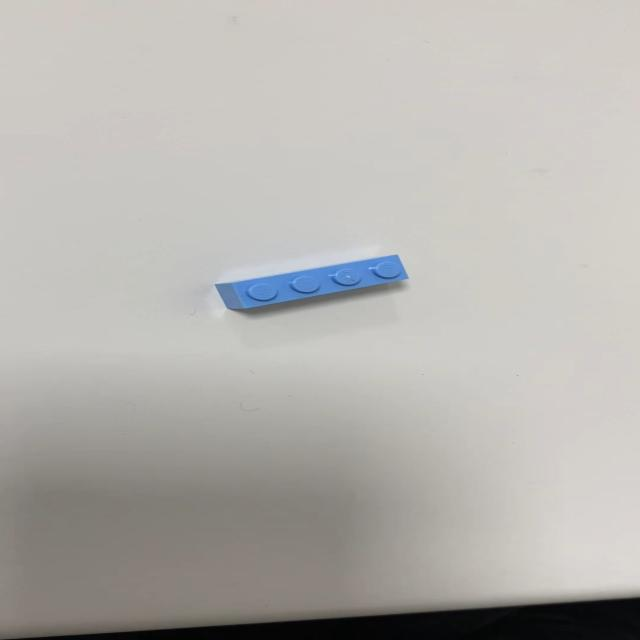C4x1x1: (213, 253, 409, 310)
